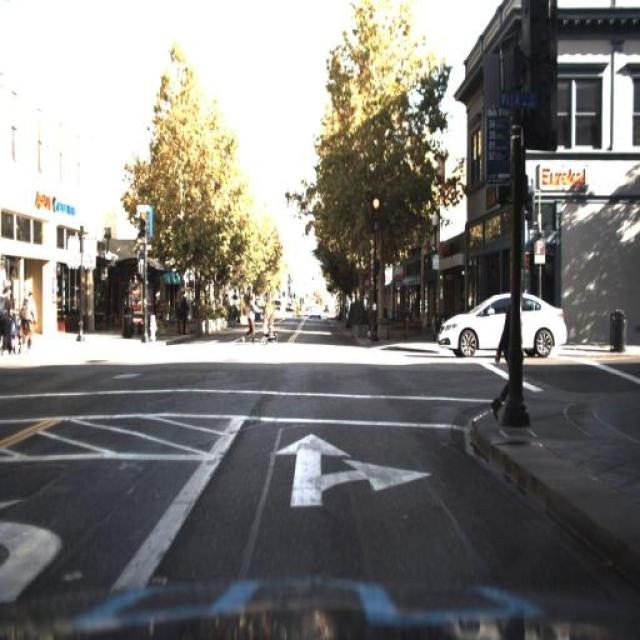car: (436, 289, 573, 355)
trafficLight: (484, 291, 528, 405), (242, 278, 278, 344), (18, 293, 36, 358)
trafficLight-RedLeft: (132, 200, 154, 250), (370, 193, 385, 233), (134, 205, 148, 240)
